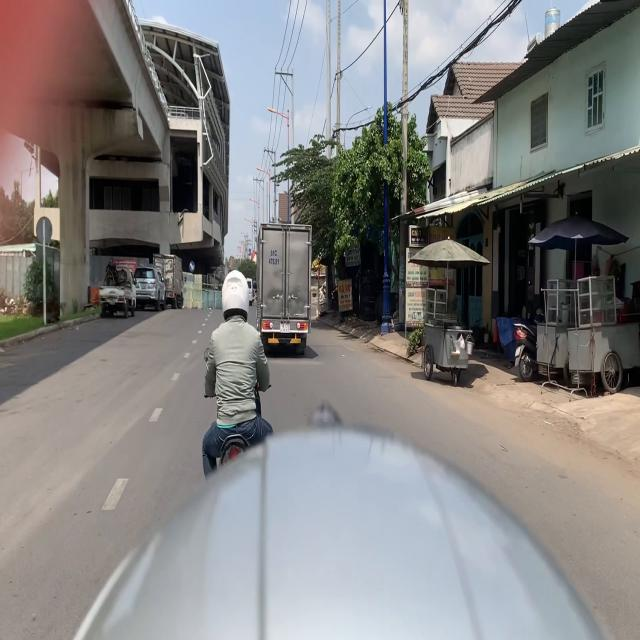Hieu lenh: (189, 261, 195, 272)
